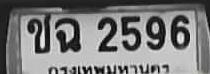2: (98, 17, 117, 52)
5: (121, 16, 141, 51)
6: (171, 16, 190, 51)
9: (145, 16, 165, 50)
A09: (54, 18, 82, 54)
A10: (27, 13, 51, 54)
